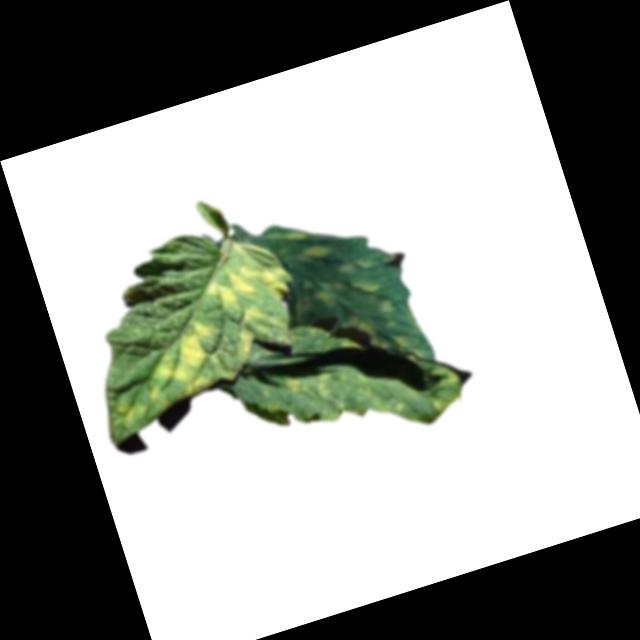Leaf_Mold: (130, 316, 234, 414), (199, 252, 294, 318), (228, 301, 278, 364), (336, 307, 385, 357), (312, 273, 350, 312), (295, 239, 334, 269), (348, 273, 381, 300), (282, 375, 304, 397), (431, 396, 452, 417)
